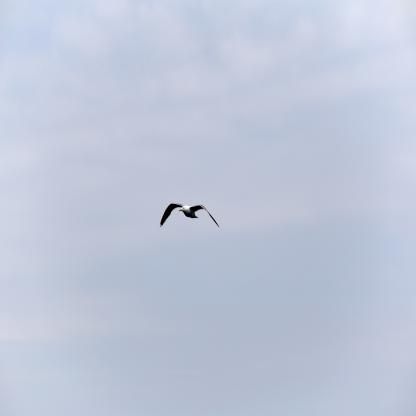bird: (160, 202, 220, 230)
